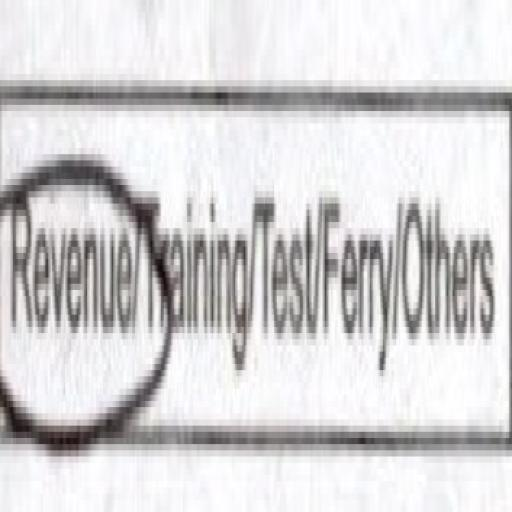check: (0, 24, 136, 499)
